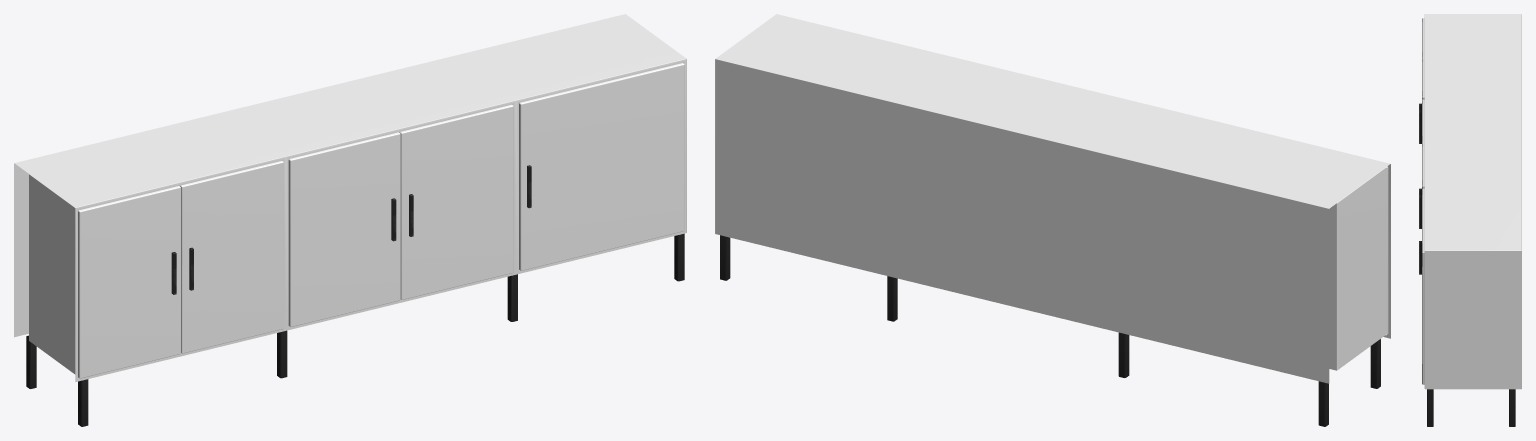
File: Side cabin table.fbx
3 views of the same model, side by side, from view 1: azimuth 30°, elevation 25°; view 2: azimuth 150°, elevation 25°; view 3: azimuth 270°, elevation 25° (orthographic). The views are drawn at different scales.
Visible parts, largest first — view 1: Side_cabin_table; view 2: Side_cabin_table; view 3: Side_cabin_table.
Boxes of the visible parts, bbox=[...] form: Side_cabin_table: bbox=[14, 14, 686, 426]; Side_cabin_table: bbox=[715, 14, 1390, 426]; Side_cabin_table: bbox=[1419, 14, 1521, 426].
Bounding box in the file's own units: 210 × 72.76 × 38.42.
Materials: 1 (1 with a texture image).
